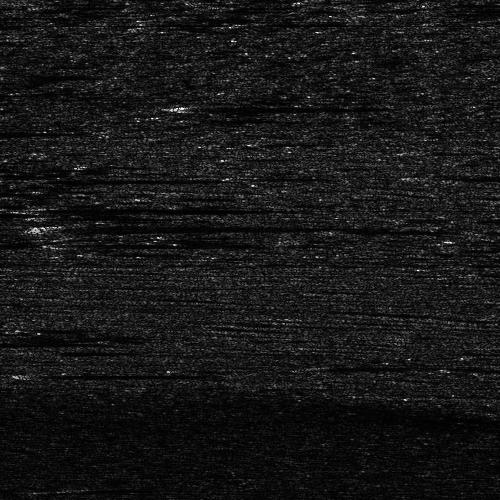rock: (175, 104, 206, 107)
shadow: (0, 125, 81, 134), (191, 104, 381, 107)
